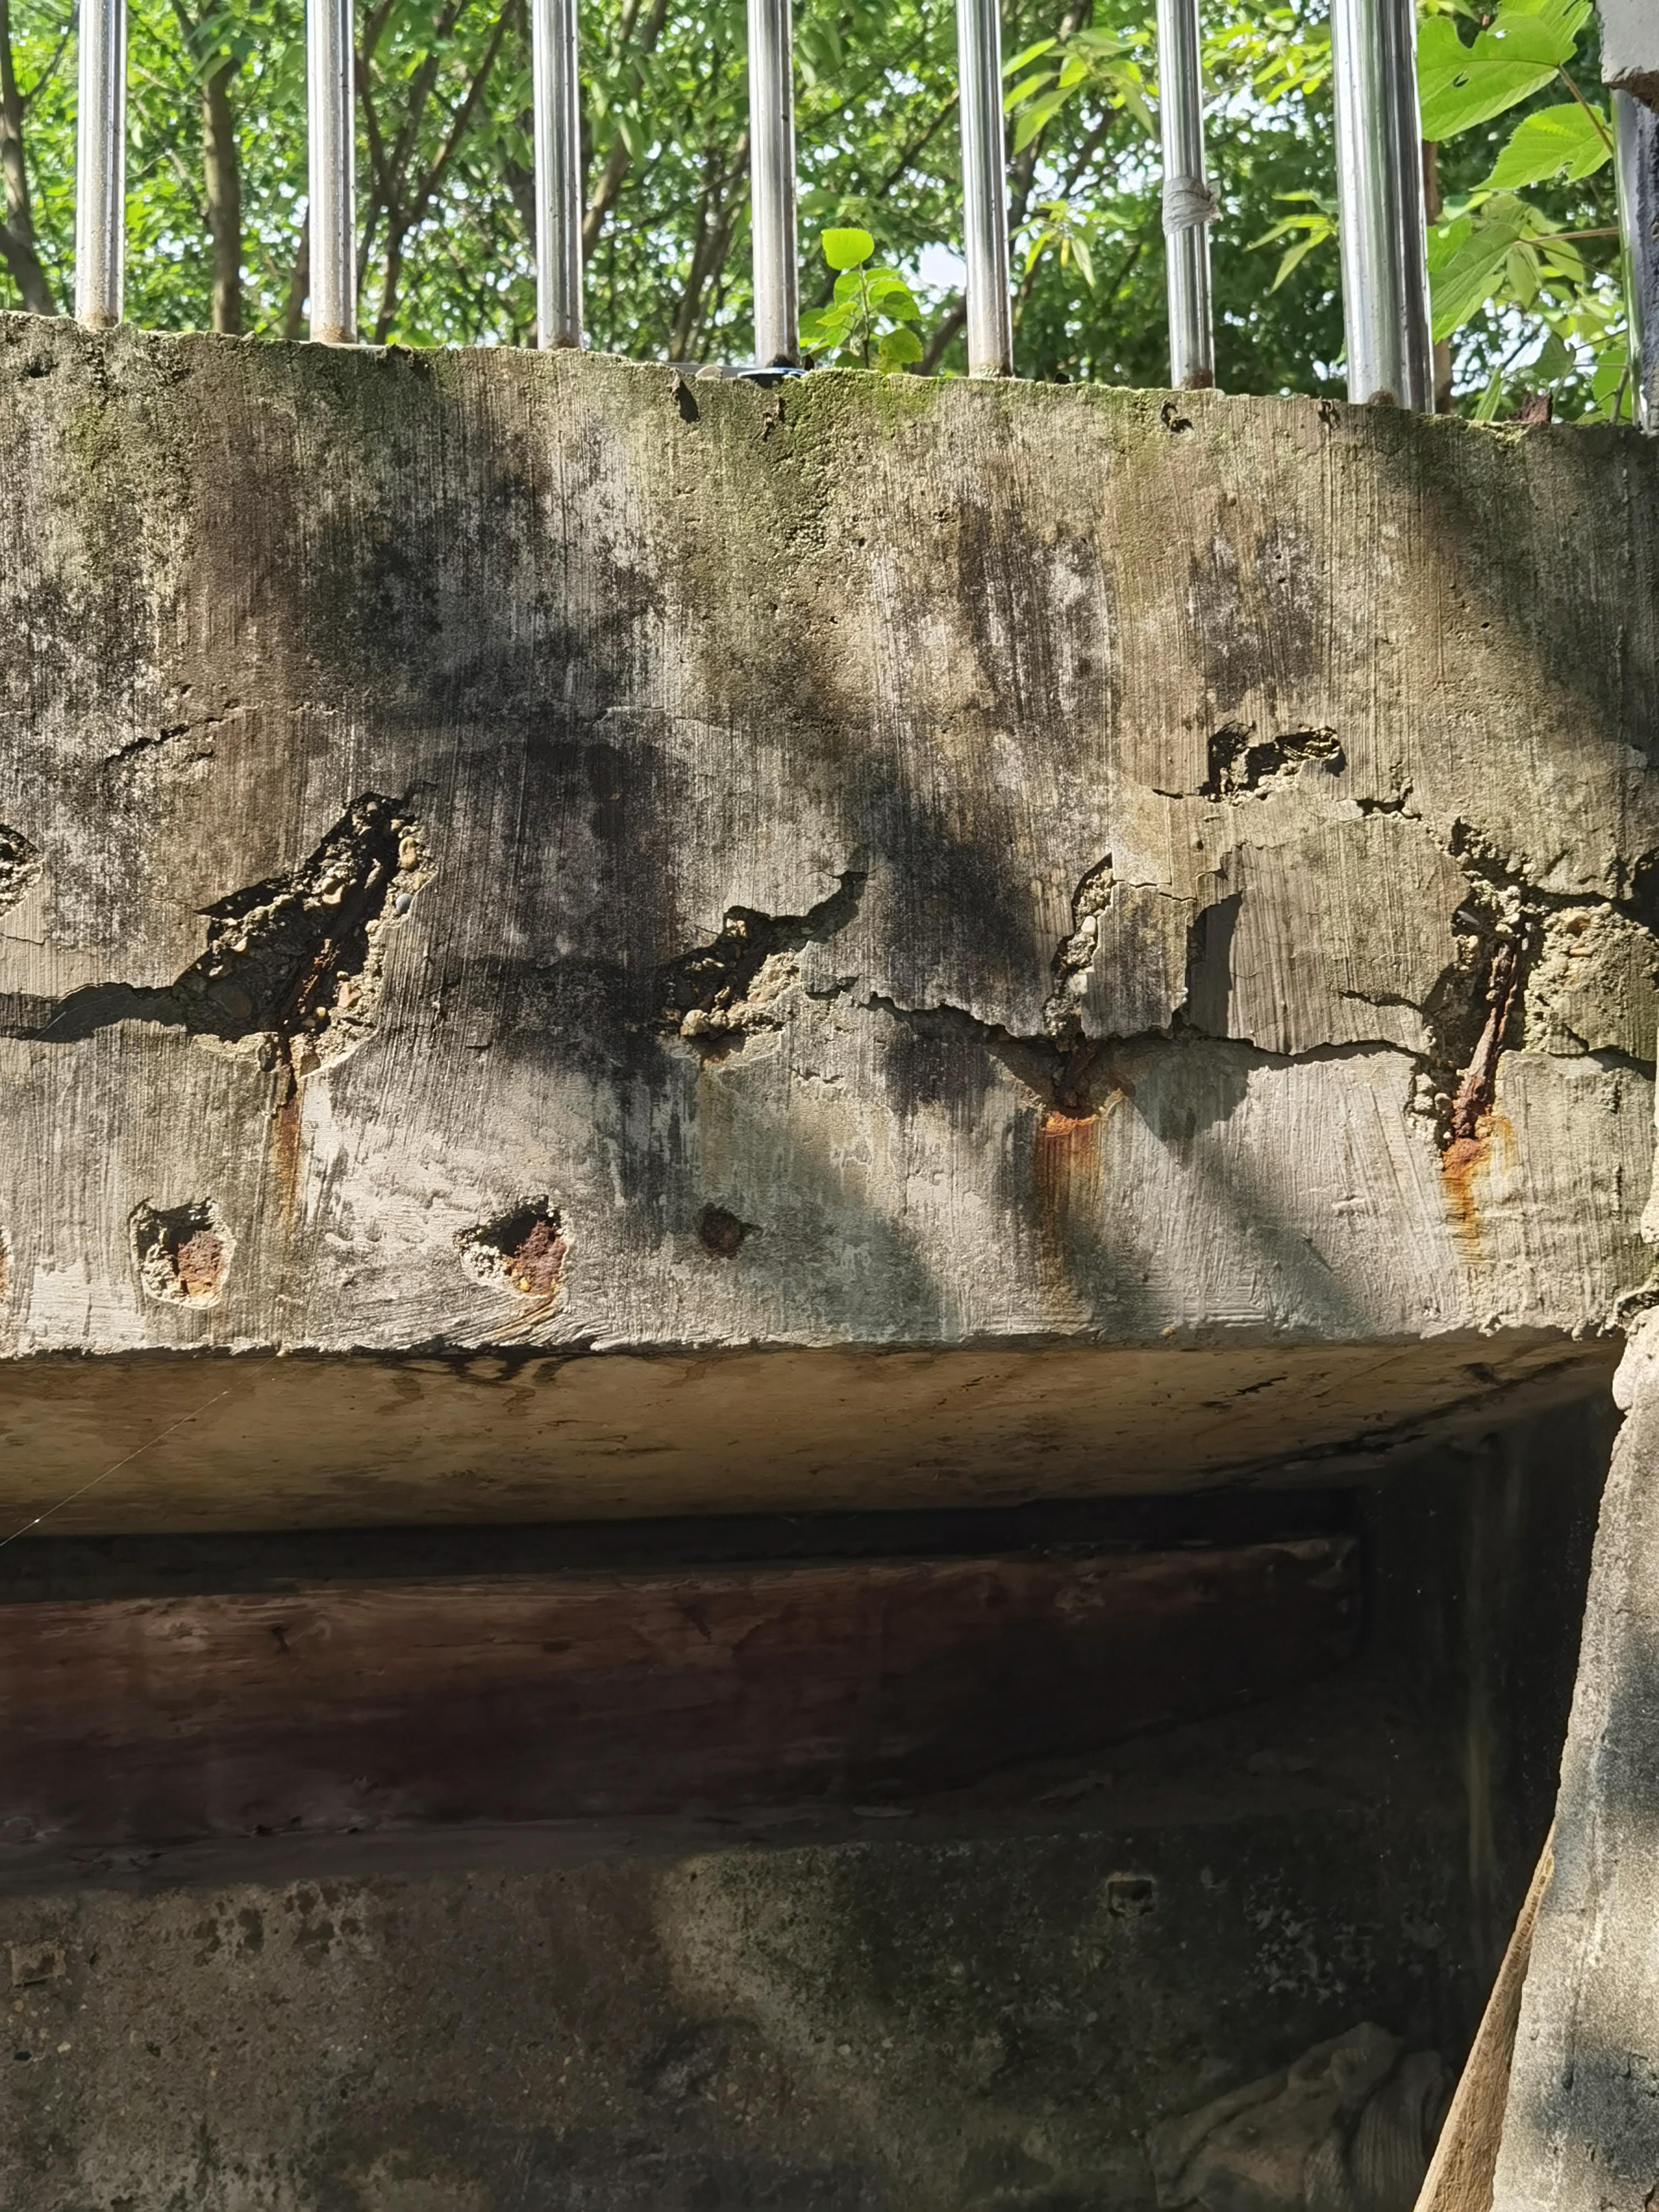rebar: (279, 853, 389, 1035), (1443, 941, 1521, 1143), (706, 923, 769, 1043), (504, 1217, 565, 1296), (167, 1228, 221, 1296), (1054, 1040, 1098, 1104), (699, 1211, 742, 1256)
separation: (375, 700, 1079, 1038), (0, 700, 369, 1042), (1079, 759, 1474, 1061)
spall: (1401, 819, 1659, 1157), (171, 787, 441, 1076), (1195, 1357, 1582, 1498), (643, 867, 868, 1075), (1540, 932, 1659, 1066), (1042, 853, 1117, 1050), (451, 1191, 575, 1301), (124, 1195, 239, 1312), (1201, 719, 1347, 808), (0, 826, 45, 925), (1202, 1374, 1286, 1416), (0, 1226, 17, 1313), (1457, 1362, 1502, 1388)
voids and pits: (2, 1804, 1422, 2209)
